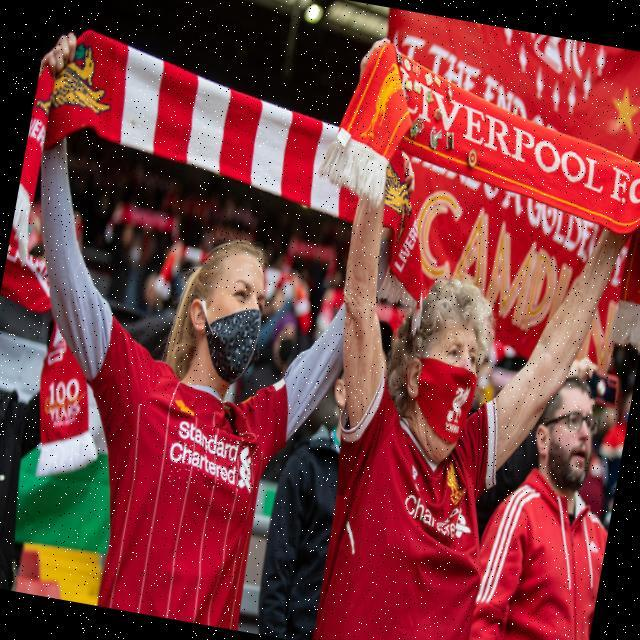Standard Chartered: (164, 420, 261, 496)
